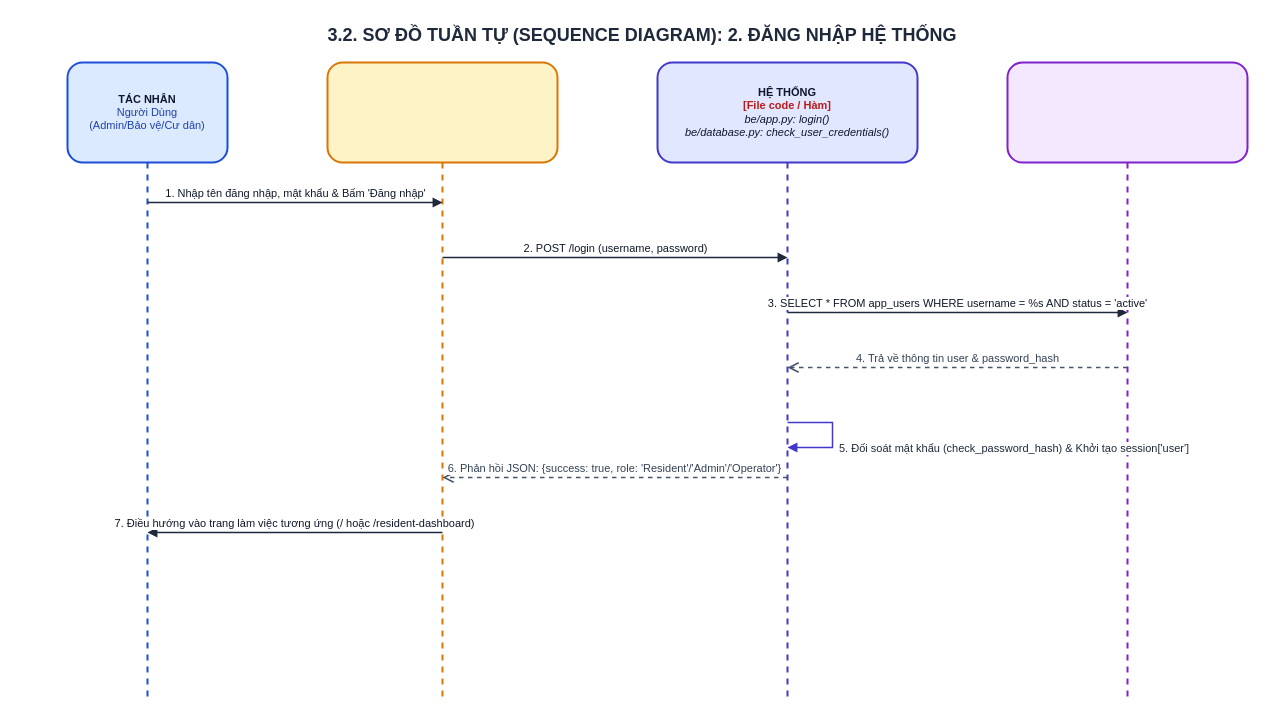
Image size: 1284x720. Some labels were removed from this diagram. The box of each missing label's shape, as (x1, y1, x2, y2) in pixels:
CƠ SỞ DỮ LIỆU [db / Bảng] HTTT_QuanLyBaiXe_AI / app_users, cu_dan, nhan_vien: (1006, 61, 1248, 703)
GIAO DIỆN [File code] fe/templates/login.html (Form #loginForm): (326, 61, 558, 703)
